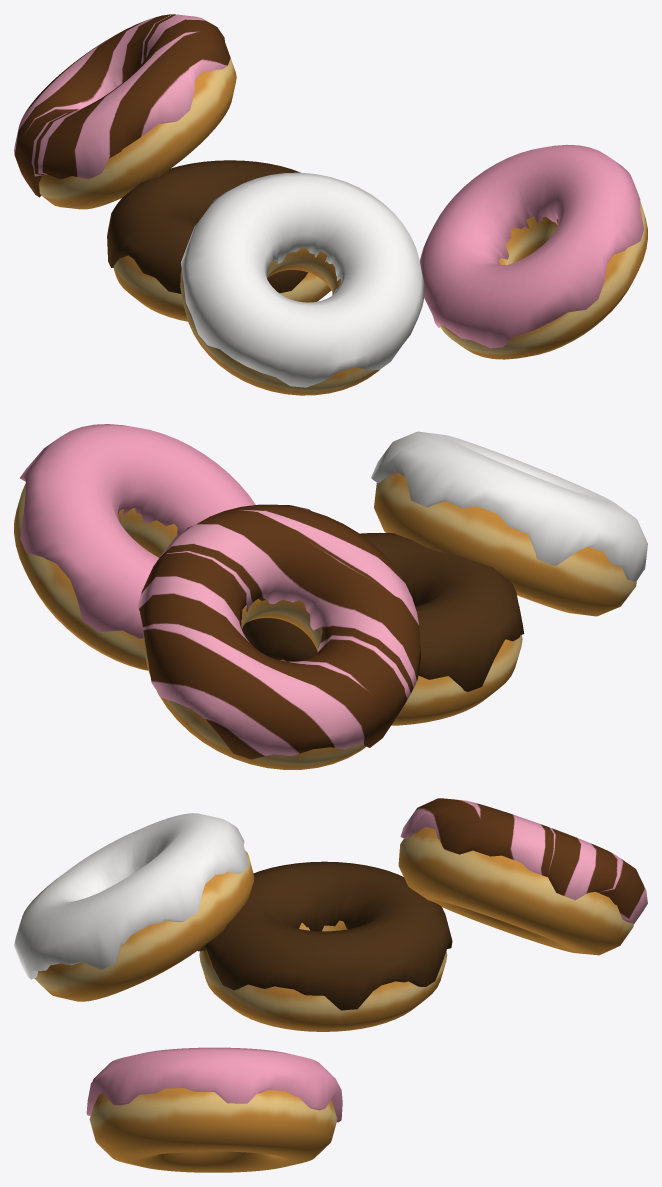
File: donut.gltf
The picture shows the model from 3 angles, top to bottom: view 1: azimuth 30°, elevation 25°; view 2: azimuth 150°, elevation 25°; view 3: azimuth 270°, elevation 25°; orthographic projection. The views are drawn at different scales.
Visible parts, largest first — view 1: Torus.001, Torus.004, Torus.005, chocodonut; view 2: Torus.005, Torus.004, Torus.001, chocodonut; view 3: chocodonut, Torus.001, Torus.004, Torus.005.
Boxes of the visible parts, left/top/right/bottom form: Torus.001: left=180, top=172, right=424, bottom=395; Torus.004: left=420, top=144, right=647, bottom=359; Torus.005: left=14, top=14, right=236, bottom=209; chocodonut: left=107, top=160, right=331, bottom=321; Torus.005: left=137, top=504, right=420, bottom=769; Torus.004: left=14, top=424, right=255, bottom=670; Torus.001: left=371, top=431, right=647, bottom=616; chocodonut: left=242, top=533, right=524, bottom=725; chocodonut: left=197, top=861, right=452, bottom=1031; Torus.001: left=14, top=813, right=254, bottom=1001; Torus.004: left=86, top=1047, right=342, bottom=1172; Torus.005: left=398, top=798, right=647, bottom=955.
Size of the model in its own units: 4.27 by 2.28 by 4.77.
Materials: 4 (4 with a texture image).
